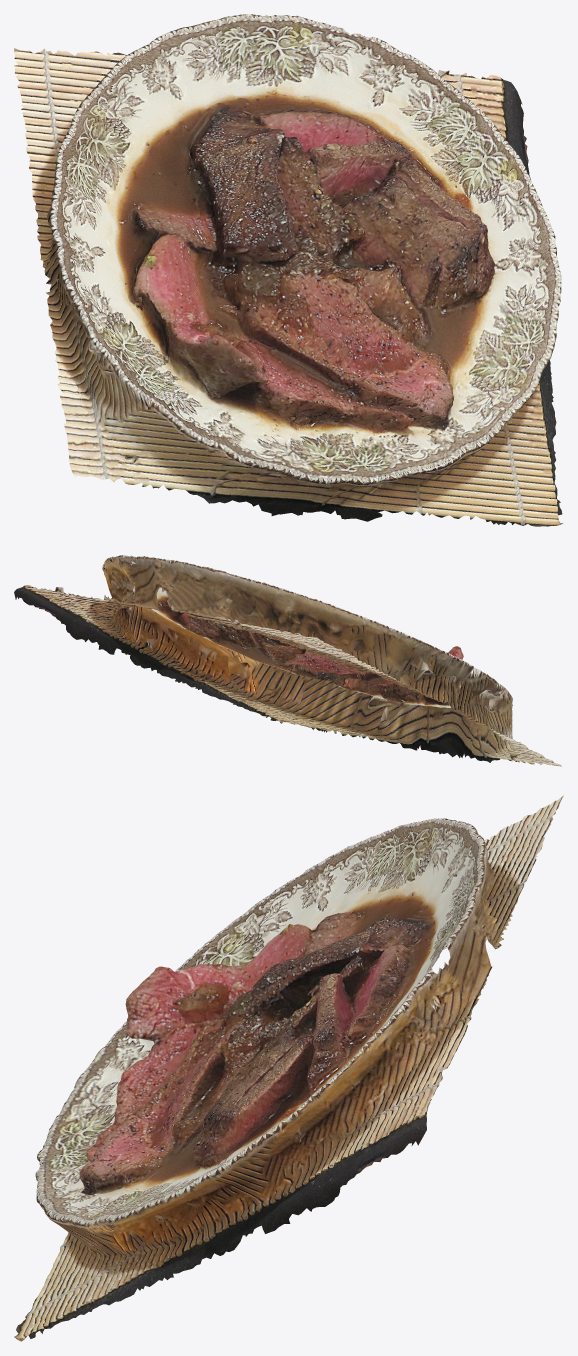
The model's file is steak2.glb.
The picture shows the model from 3 angles, top to bottom: view 1: azimuth 30°, elevation 25°; view 2: azimuth 150°, elevation 25°; view 3: azimuth 270°, elevation 25°; orthographic projection. The views are drawn at different scales.
Parts seen in each view (by area): view 1: Stereo textured mesh; view 2: Stereo textured mesh; view 3: Stereo textured mesh.
Boxes of the visible parts, left/top/right/bottom form: Stereo textured mesh: left=14, top=14, right=562, bottom=526; Stereo textured mesh: left=14, top=555, right=561, bottom=766; Stereo textured mesh: left=14, top=795, right=563, bottom=1341.
Bounding box in the file's own units: 9.31 × 6.03 × 7.35.
1 material, 1 textured.
